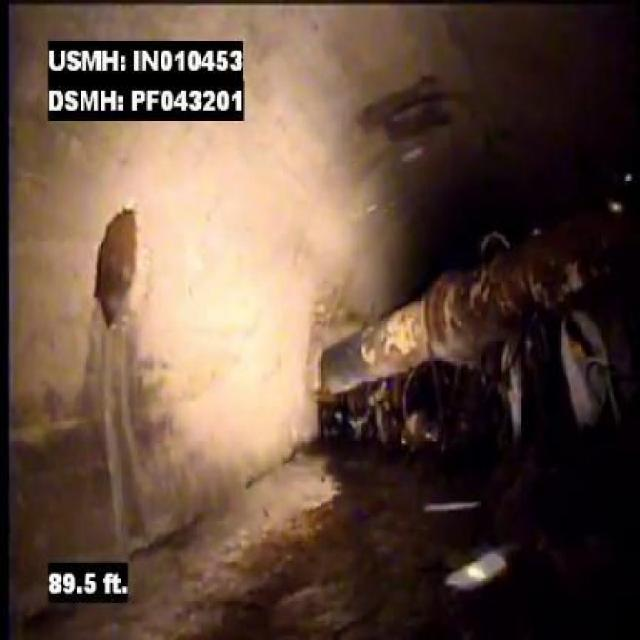Utility intrusion: (322, 190, 638, 402)
